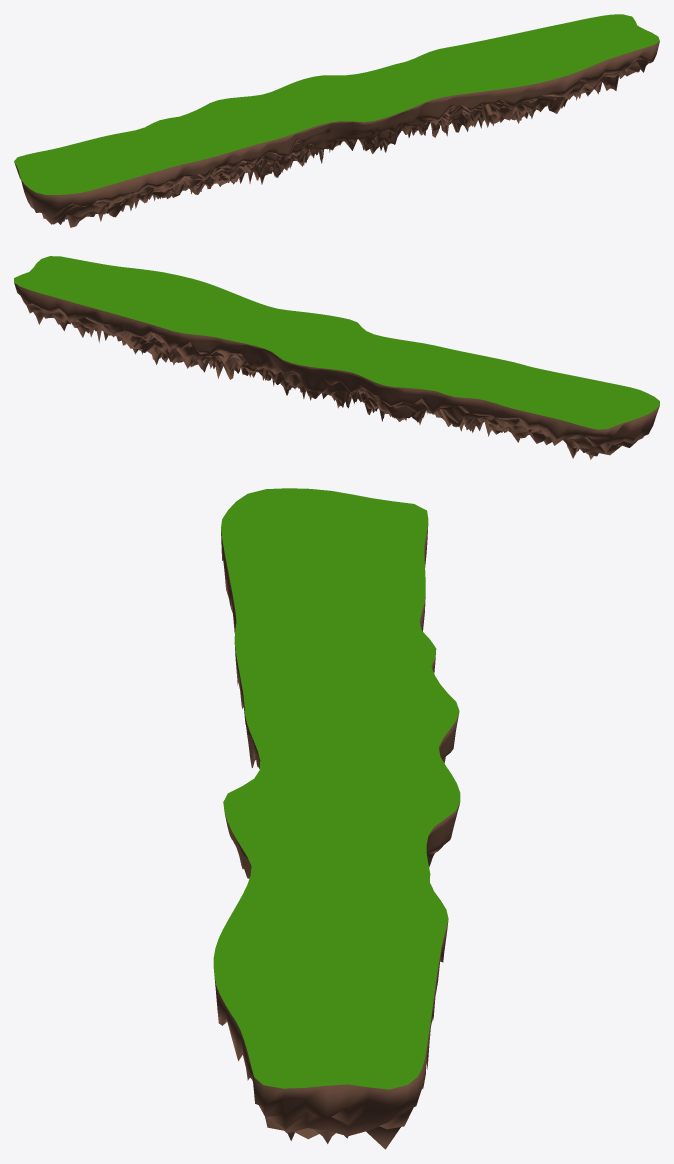
File: DesertFix.fbx
3 views of the same model, one above another, from view 1: azimuth 30°, elevation 25°; view 2: azimuth 150°, elevation 25°; view 3: azimuth 270°, elevation 25° (orthographic). The views are drawn at different scales.
Parts seen in each view (by area): view 1: BezierCircle.005; view 2: BezierCircle.005; view 3: BezierCircle.005.
Part boxes in pixels (box(x1,y1,x2,y2)): BezierCircle.005: box(14, 14, 659, 227); BezierCircle.005: box(14, 256, 659, 459); BezierCircle.005: box(213, 488, 460, 1149).
Size of the model in its own units: 36999 by 3590 by 6416.
